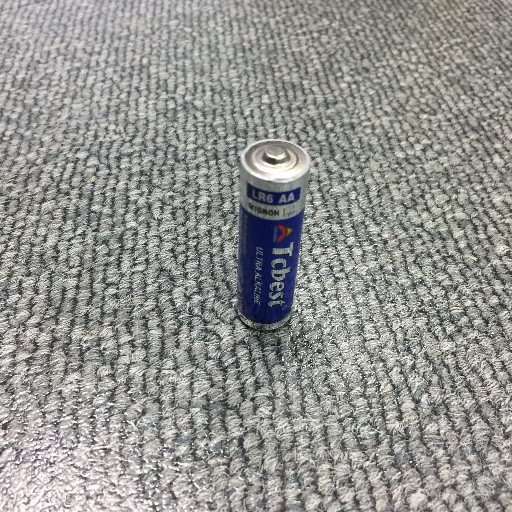Battery_0: (220, 128, 321, 344)
